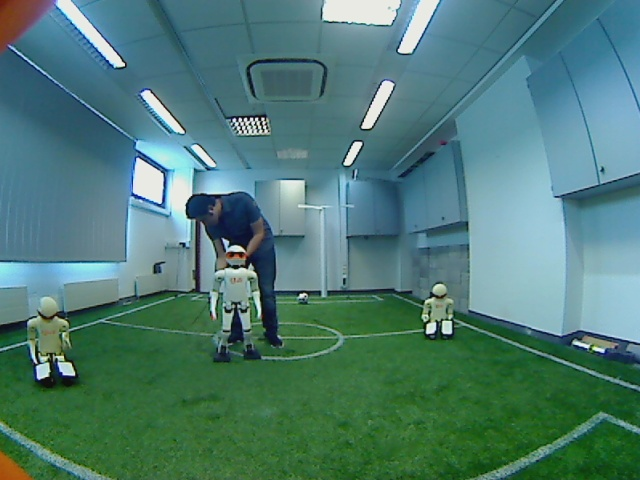ball: (293, 289, 315, 309)
robot: (206, 243, 268, 366), (19, 291, 88, 387), (413, 281, 461, 347)
